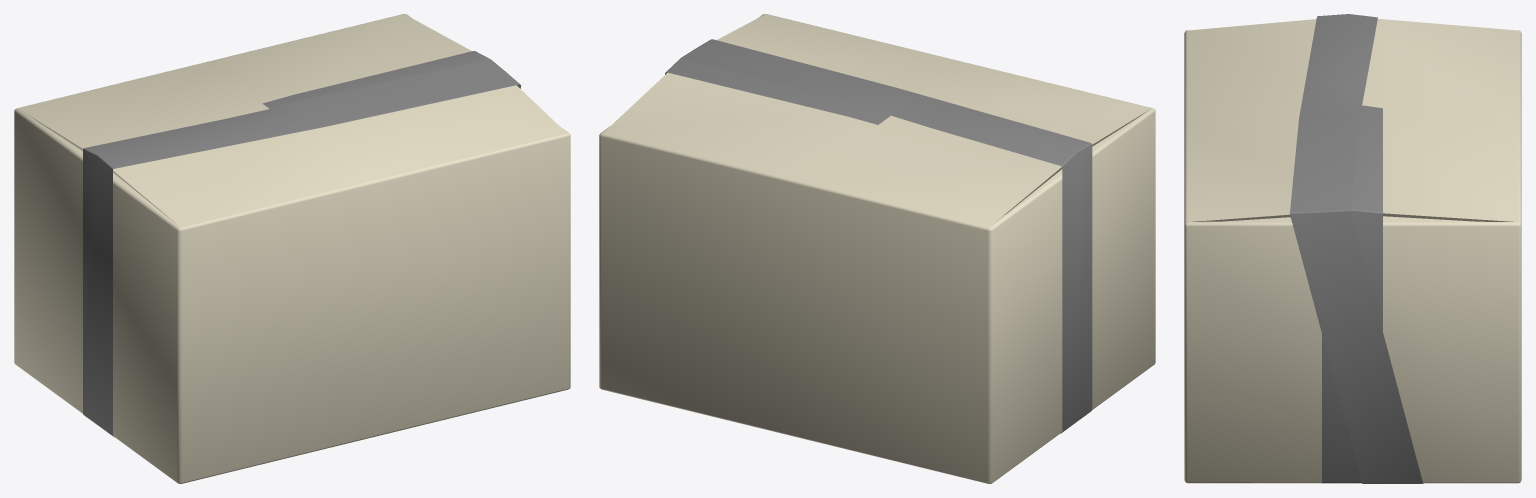
The model's file is carton.fbx.
3 views of the same model, side by side, from view 1: azimuth 30°, elevation 25°; view 2: azimuth 150°, elevation 25°; view 3: azimuth 270°, elevation 25° (orthographic).
Visible parts, largest first — view 1: carton; view 2: carton; view 3: carton.
Part boxes in pixels (x1,y1,x2,y2): carton: [14, 14, 570, 483]; carton: [599, 14, 1155, 483]; carton: [1184, 14, 1521, 483].
Size of the model in its own units: 26.66 by 17.53 by 19.37.
